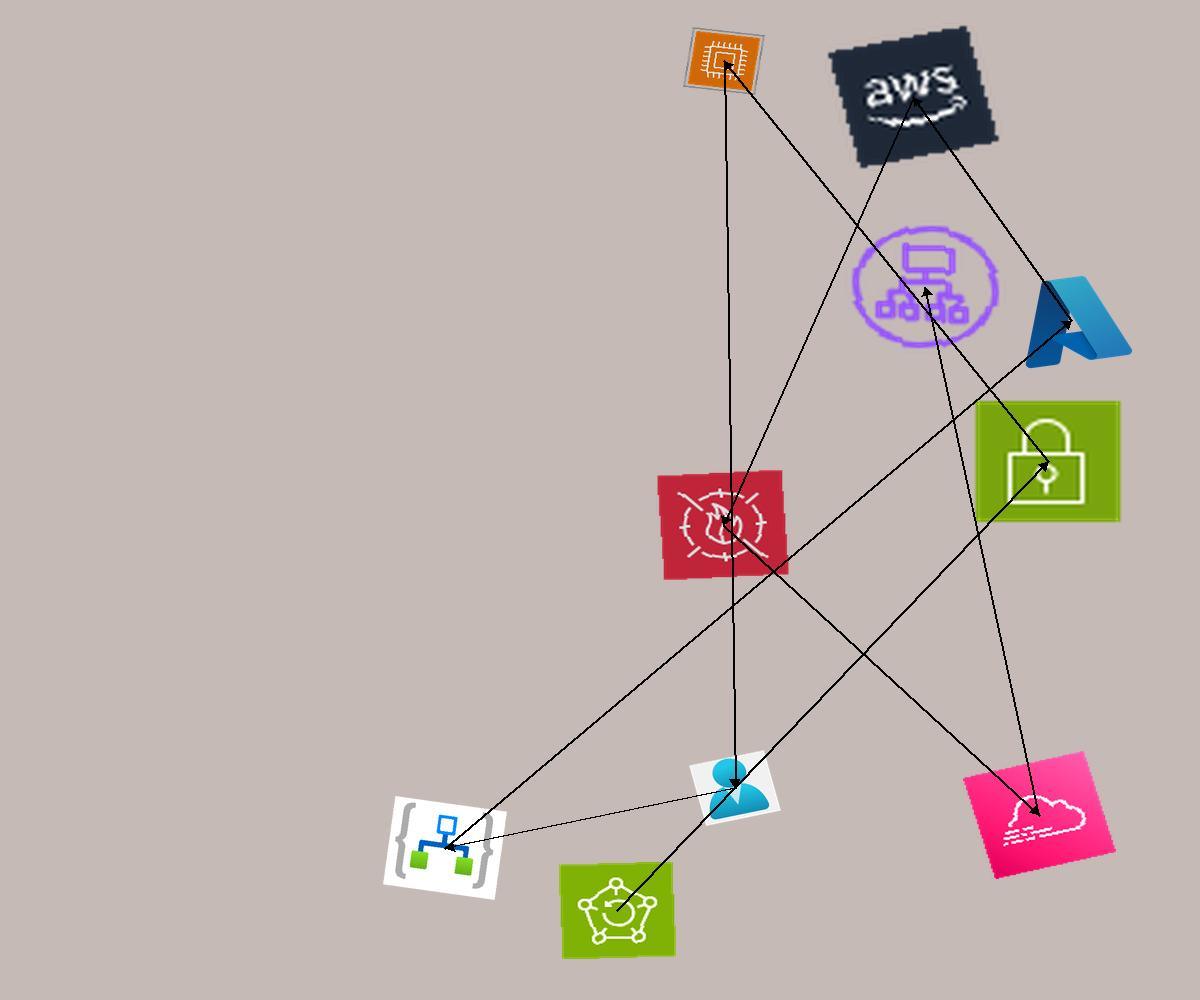AWS-Backup: (558, 861, 677, 960)
AWS-Category_Compute: (683, 27, 765, 95)
AWS-Cloud-logo: (825, 23, 1002, 171)
AWS-CloudTrail: (963, 751, 1116, 879)
AWS-Public-subnet: (972, 398, 1124, 525)
AWS-Res_Elastic-Load-Balancing_Application-Load-Balancer: (839, 215, 1012, 359)
AWS-WAF: (656, 469, 790, 581)
Azure_integration-204-Logic-Apps: (383, 796, 507, 900)
Azure_services: (1004, 264, 1139, 376)
Azure_users: (689, 750, 781, 826)
